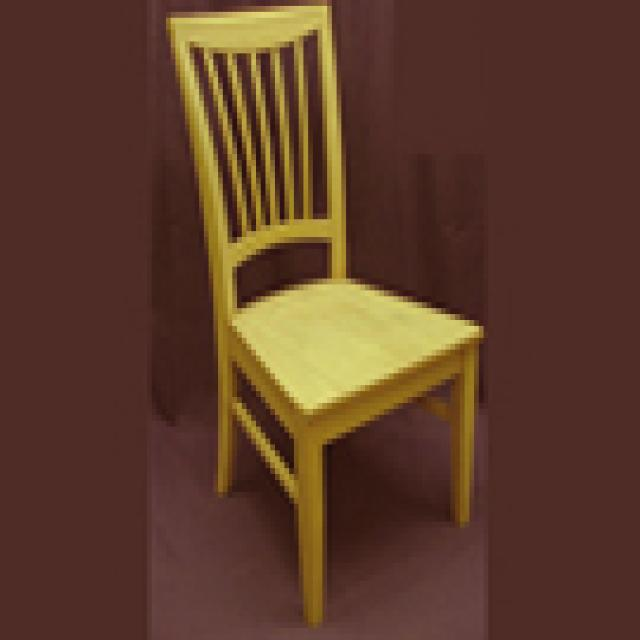chair: (161, 0, 484, 622)
